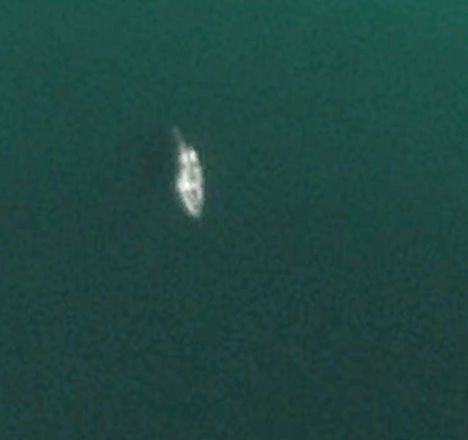boat: (171, 139, 211, 225)
